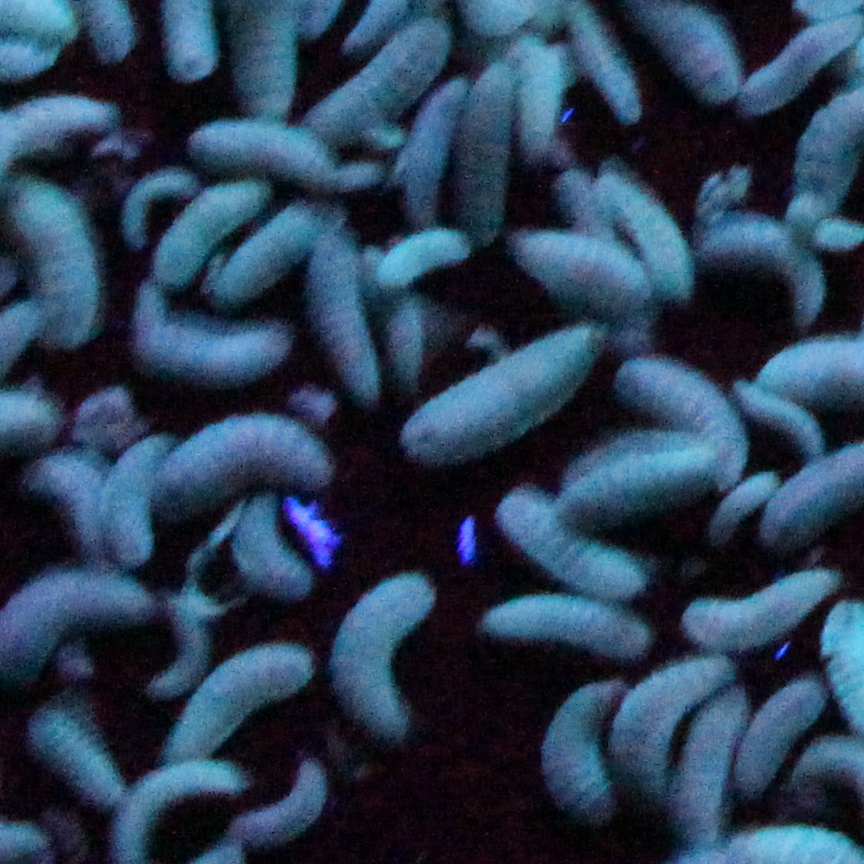larve: (411, 325, 597, 460), (126, 300, 293, 396), (683, 210, 815, 321), (508, 489, 640, 600), (626, 357, 747, 478), (518, 221, 654, 328), (4, 185, 115, 315), (336, 582, 418, 753), (293, 228, 376, 396), (151, 421, 326, 500), (168, 643, 293, 750), (115, 760, 240, 864), (690, 568, 829, 657), (583, 171, 693, 278), (533, 675, 618, 810), (386, 93, 458, 221), (676, 685, 747, 814), (188, 120, 341, 178), (736, 678, 815, 778), (582, 5, 643, 132), (486, 600, 640, 646), (658, 7, 729, 100), (36, 468, 97, 550), (468, 78, 497, 246)
